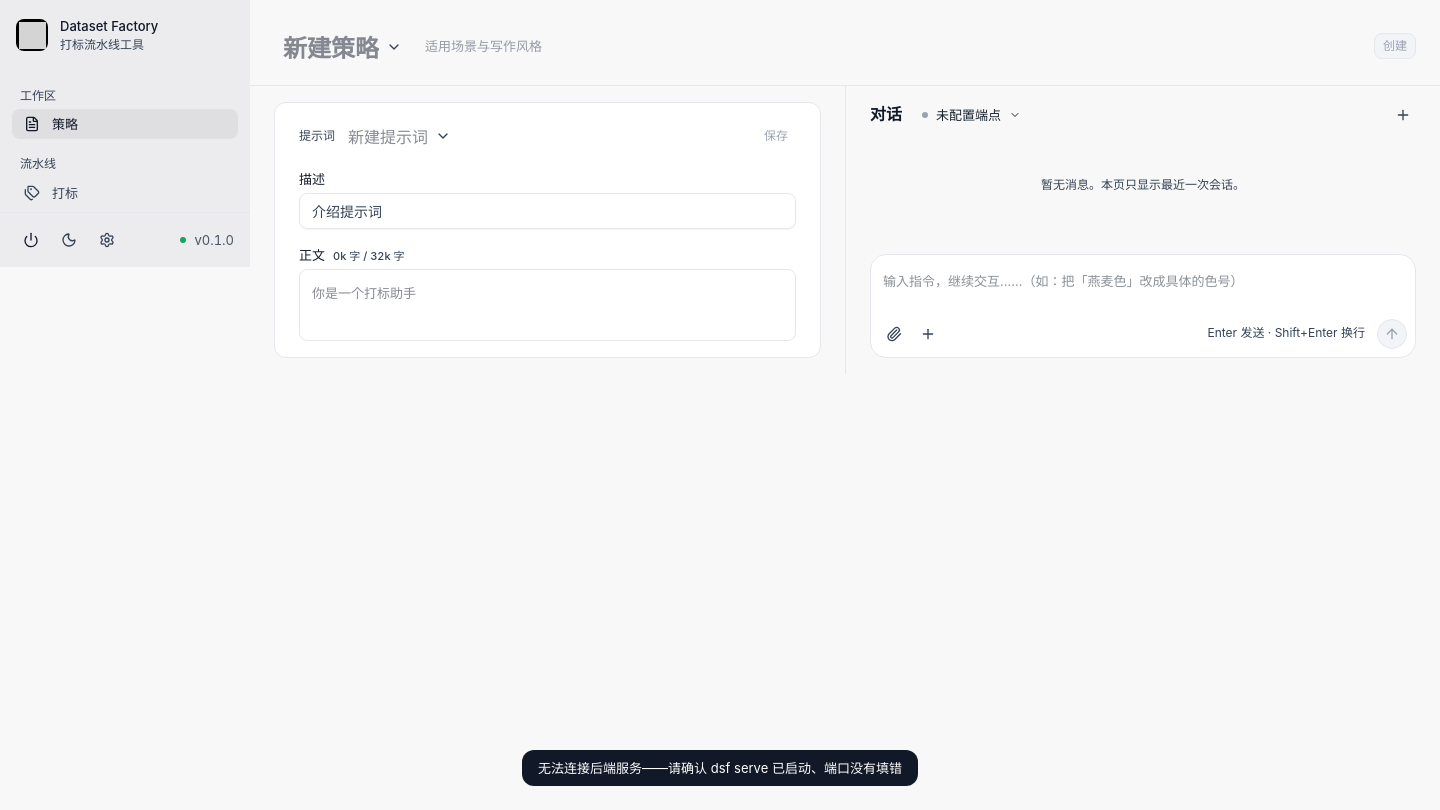
Test: 页面保活与外壳持久化 › 切页不再卸载：未访问页不挂载，访问过的页隐藏常驻
The width and height of the screenshot is (1440, 810).
Expected: the element with test id "page-prompts" is shown, [250,0,1439,374]
Click the button "打标" at (125, 193), box [12,178,238,208]
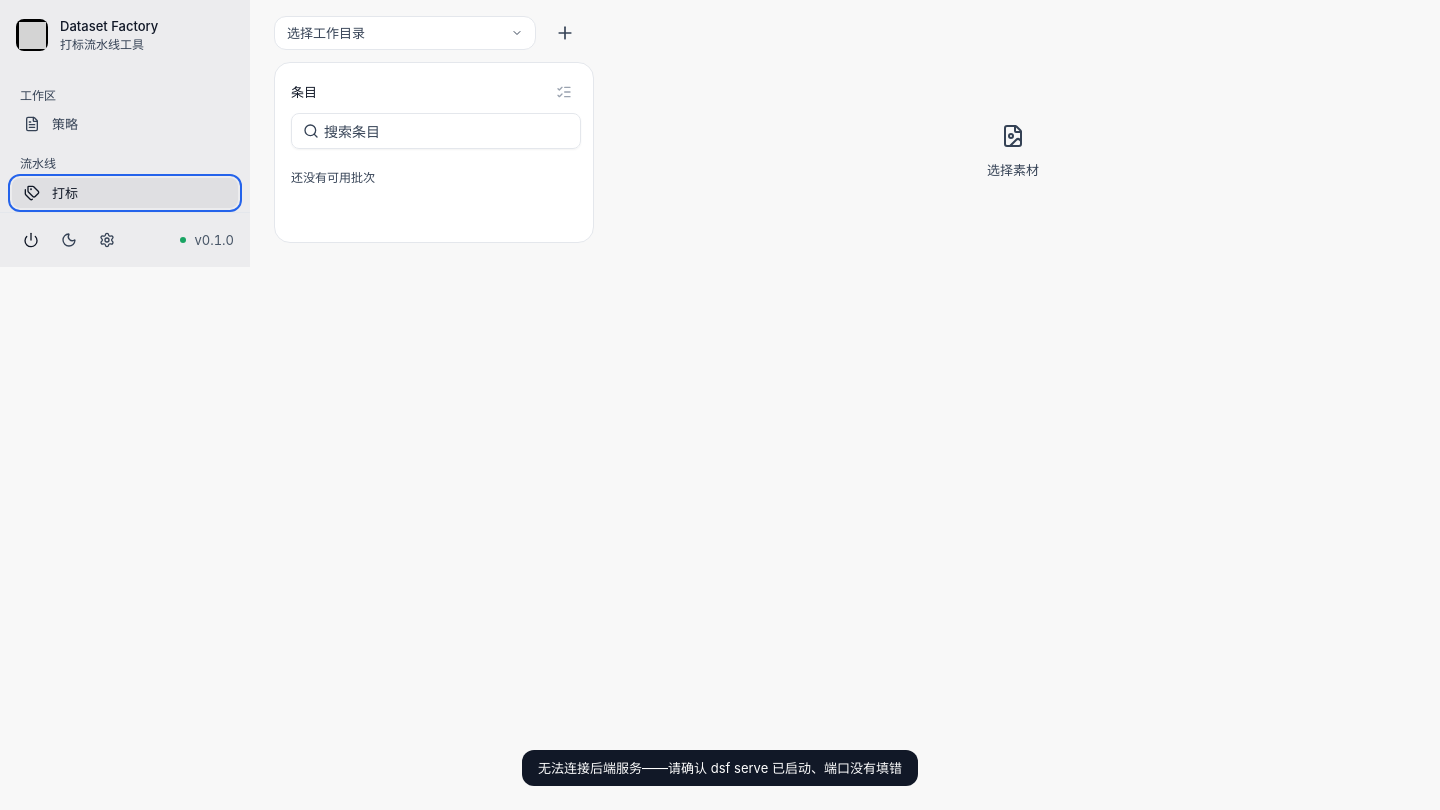
Expected: the element with test id "page-labeling" is shown, [274,16,1039,243]
Click the button "策略" at (125, 124), box [12,109,238,139]
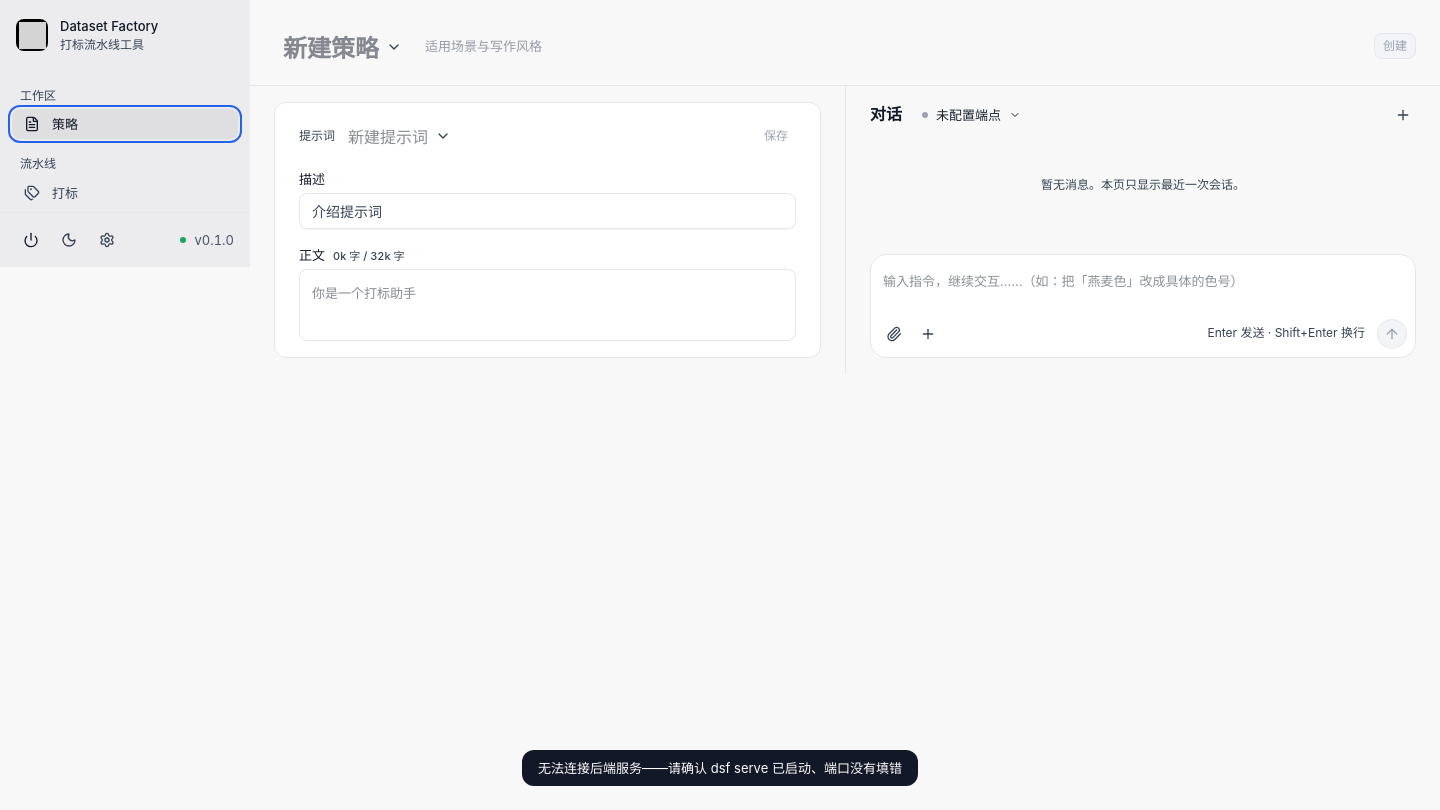
Expected: the element with test id "page-prompts" is shown, [250,0,1439,374]
